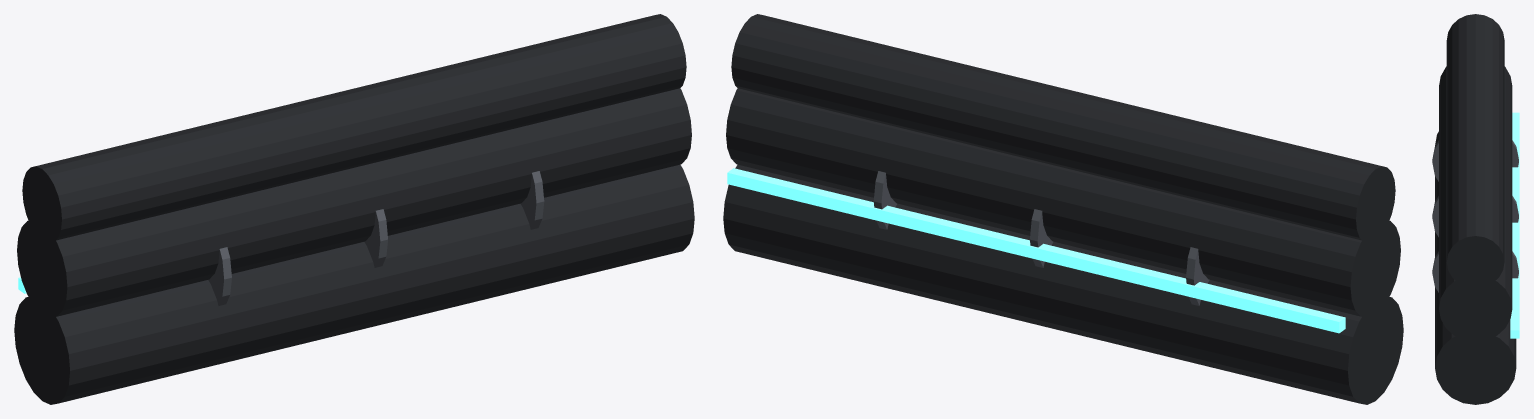
File: perimeter-straight.glb
The picture shows the model from 3 angles, left to right: view 1: azimuth 30°, elevation 25°; view 2: azimuth 150°, elevation 25°; view 3: azimuth 270°, elevation 25°; orthographic projection. The views are drawn at different scales.
Visible parts, largest first — view 1: perimeter-straight; view 2: perimeter-straight; view 3: perimeter-straight.
Boxes of the visible parts, x1,y1,x2,y2 form: perimeter-straight: (14, 14, 694, 404); perimeter-straight: (723, 14, 1403, 404); perimeter-straight: (1432, 14, 1519, 404).
Bounding box in the file's own units: 8 × 2.84 × 1.33.
